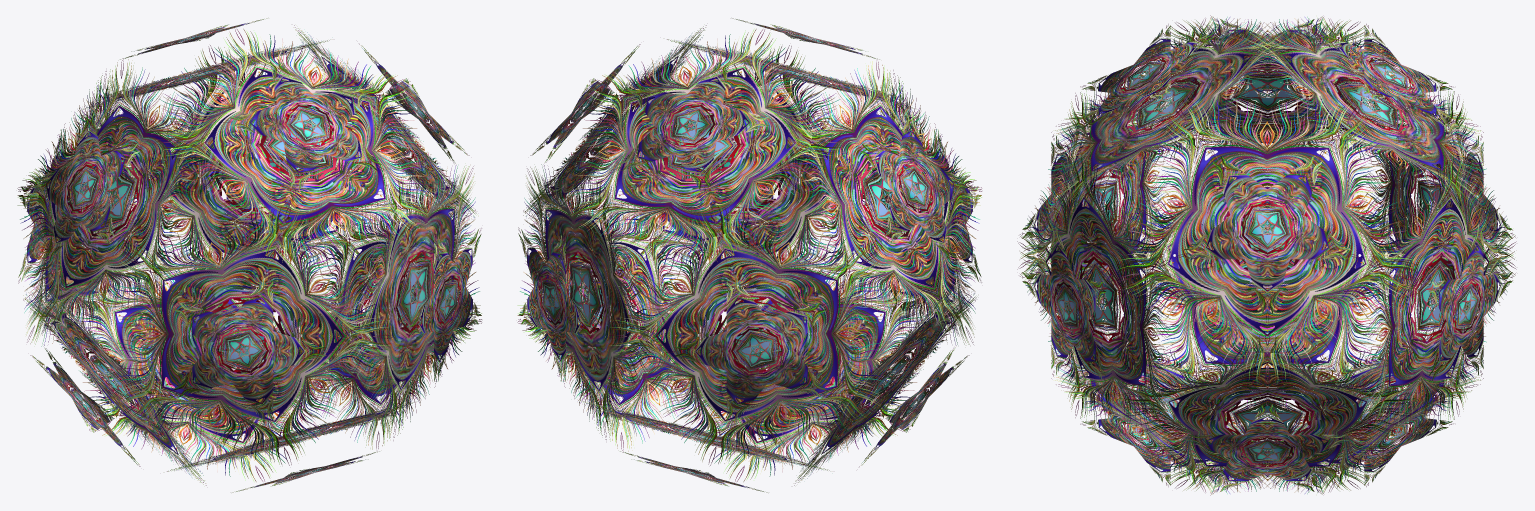
The model's file is Icosidodecadodecahedron13.gltf.
3 views of the same model, side by side, from view 1: azimuth 30°, elevation 25°; view 2: azimuth 150°, elevation 25°; view 3: azimuth 270°, elevation 25° (orthographic). The views are drawn at different scales.
Parts seen in each view (by area): view 1: Icosidodecadodecahedron13; view 2: Icosidodecadodecahedron13; view 3: Icosidodecadodecahedron13.
Part boxes in pixels (box(x1,y1,x2,y2)): Icosidodecadodecahedron13: box(17, 18, 481, 492); Icosidodecadodecahedron13: box(517, 18, 981, 492); Icosidodecadodecahedron13: box(1017, 15, 1516, 495).
Size of the model in its own units: 2.62 by 2.62 by 2.62.
Materials: 1 (1 with a texture image).
